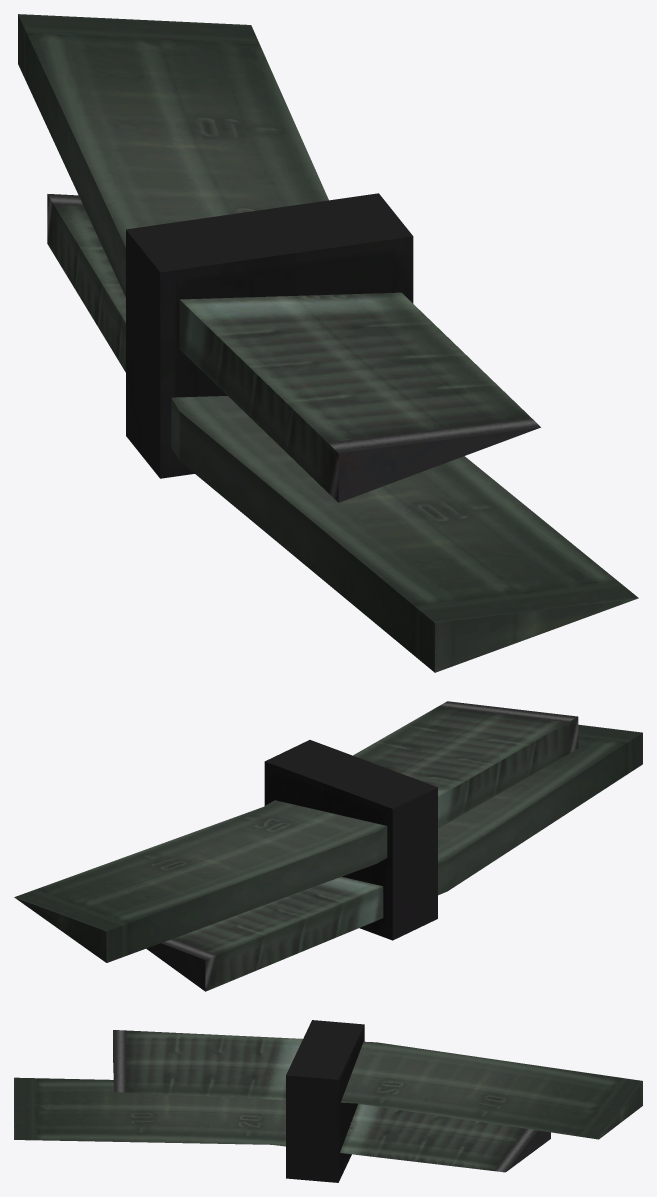
The model's file is t6_attach_fastmag_chicom_world_LOD2.obj.
3 views of the same model, one above another, from view 1: azimuth 30°, elevation 25°; view 2: azimuth 150°, elevation 25°; view 3: azimuth 270°, elevation 25° (orthographic). The views are drawn at different scales.
Parts seen in each view (by area): view 1: mtl_t6_wpn_smg_chicom_camo1, mtl_t6_wpn_smg_chicom_camo2; view 2: mtl_t6_wpn_smg_chicom_camo1, mtl_t6_wpn_smg_chicom_camo2; view 3: mtl_t6_wpn_smg_chicom_camo1, mtl_t6_wpn_smg_chicom_camo2.
Boxes of the visible parts, x1=… form: mtl_t6_wpn_smg_chicom_camo1: x1=18, y1=14, x2=638, y2=672; mtl_t6_wpn_smg_chicom_camo2: x1=126, y1=193, x2=413, y2=478; mtl_t6_wpn_smg_chicom_camo1: x1=14, y1=701, x2=642, y2=991; mtl_t6_wpn_smg_chicom_camo2: x1=264, y1=740, x2=437, y2=940; mtl_t6_wpn_smg_chicom_camo1: x1=14, y1=1030, x2=642, y2=1172; mtl_t6_wpn_smg_chicom_camo2: x1=286, y1=1020, x2=364, y2=1182.
Bounding box in the file's own units: 7.53 × 3.7 × 20.44.
